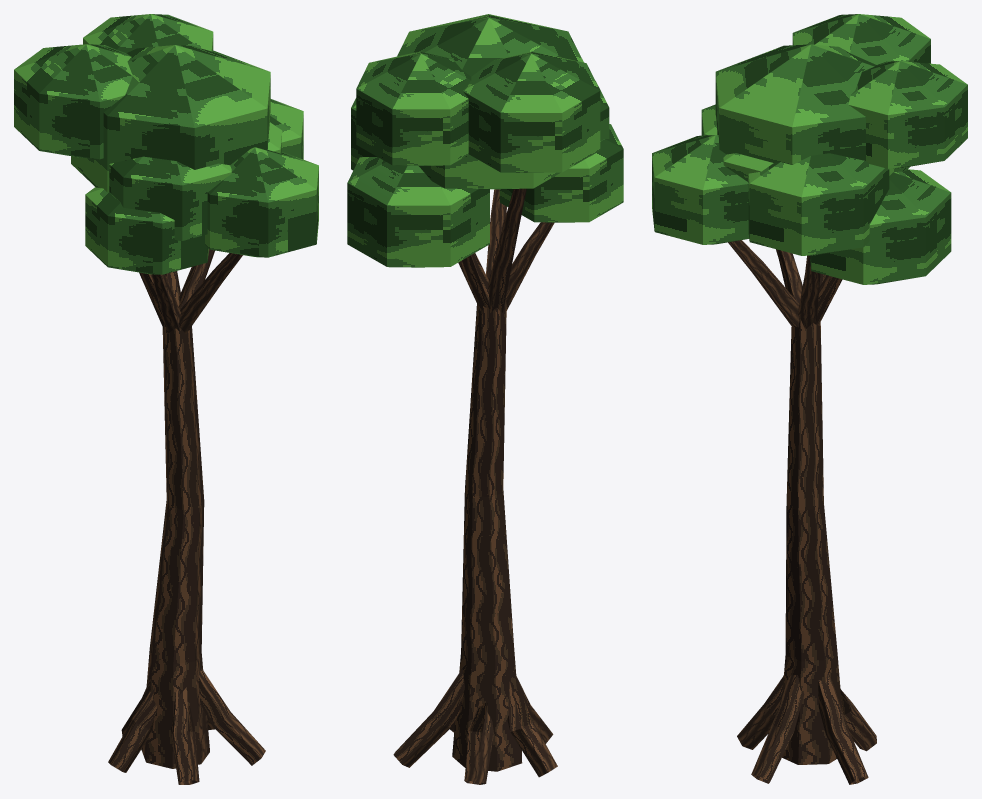
The model's file is arbolmayorIsla2.gltf.
3 views of the same model, side by side, from view 1: azimuth 30°, elevation 25°; view 2: azimuth 150°, elevation 25°; view 3: azimuth 270°, elevation 25° (orthographic). The views are drawn at different scales.
Parts seen in each view (by area): view 1: FLO-16_Arbol_mayor.194; view 2: FLO-16_Arbol_mayor.194; view 3: FLO-16_Arbol_mayor.194.
Boxes of the visible parts, x1,y1,x2,y2 form: FLO-16_Arbol_mayor.194: (14,14,318,784); FLO-16_Arbol_mayor.194: (347,14,623,784); FLO-16_Arbol_mayor.194: (652,14,967,784).
Size of the model in its own units: 9.74 by 27.16 by 10.9.
Materials: 1 (1 with a texture image).
